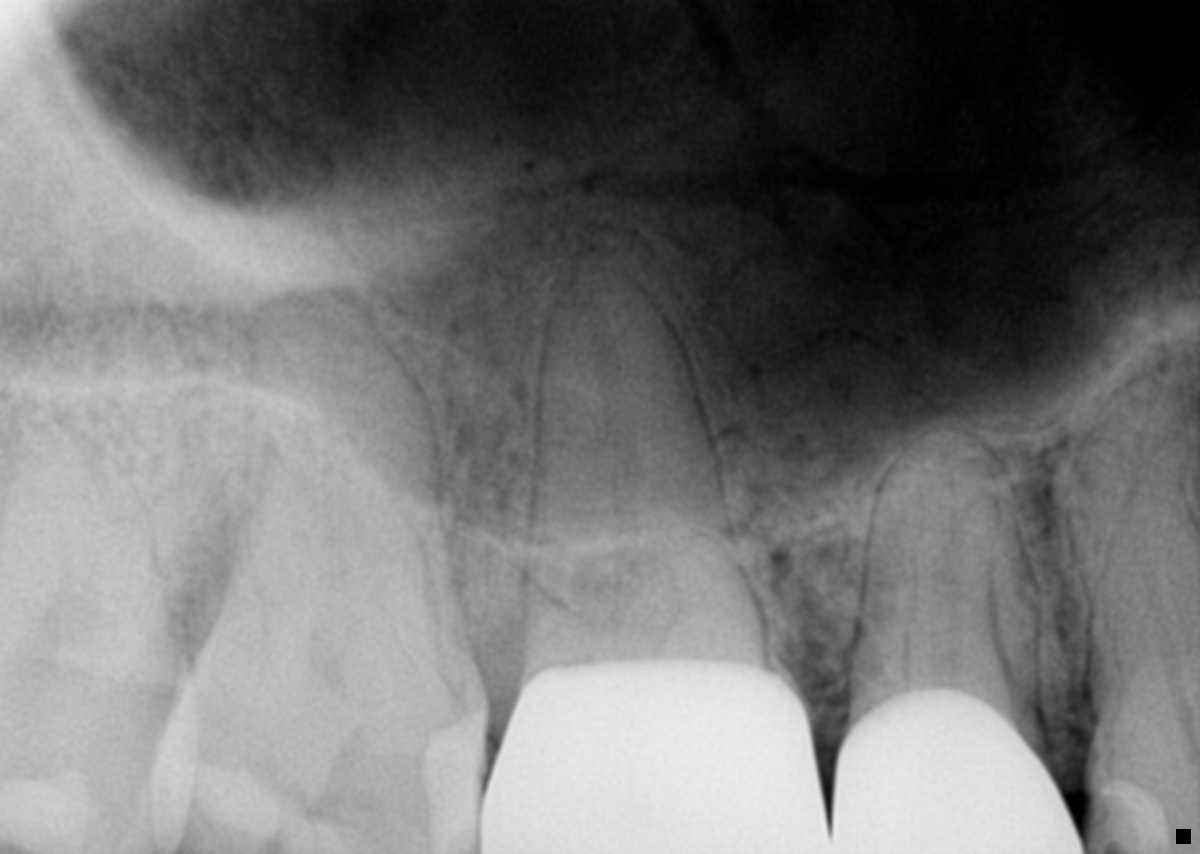Distal Root: (421, 514, 598, 731)
Main Canal: (1153, 588, 1195, 745)
Main Root: (851, 425, 1047, 739), (0, 395, 182, 678), (1069, 365, 1200, 723)
Mesial Root: (661, 527, 768, 673)
Palatal Canal: (583, 300, 668, 604)
Palatal Root: (195, 287, 481, 703), (512, 269, 759, 686)
